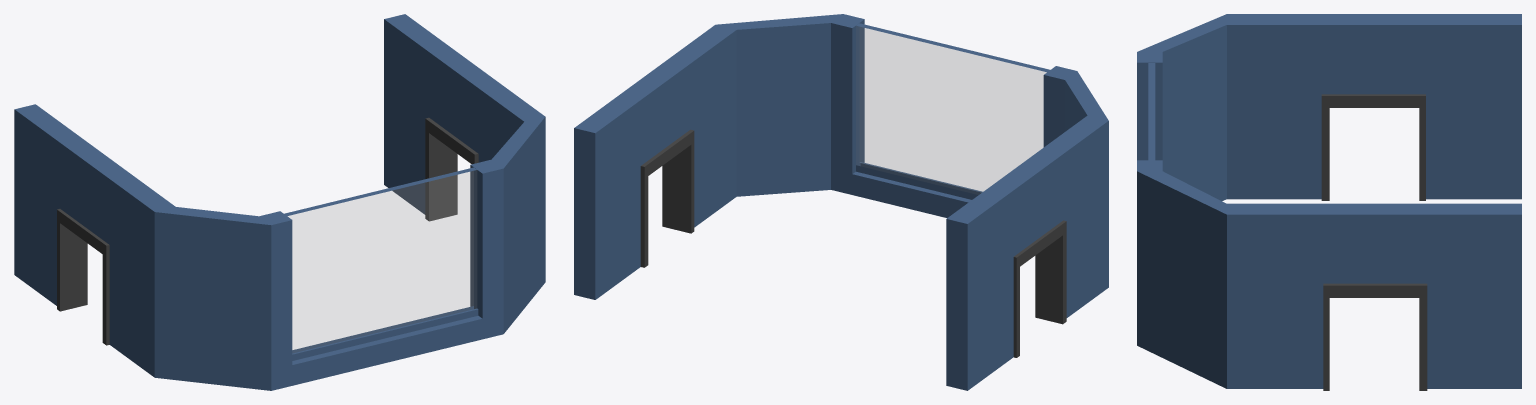
The model's file is Structure_NarcoRoom.fbx.
3 renders of one model, left to right at view 1: azimuth 30°, elevation 25°; view 2: azimuth 150°, elevation 25°; view 3: azimuth 270°, elevation 25°, orthographic. The views are drawn at different scales.
Parts seen in each view (by area): view 1: Narco_Room1; view 2: Narco_Room1; view 3: Narco_Room1.
Boxes of the visible parts, x1,y1,x2,y2 form: Narco_Room1: (14, 14, 545, 390); Narco_Room1: (574, 14, 1108, 390); Narco_Room1: (1137, 14, 1521, 390).
Size of the model in its own units: 1883 by 750 by 1500.
